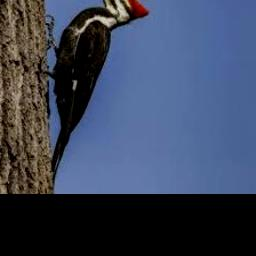Woodpecker: (45, 0, 150, 187)
